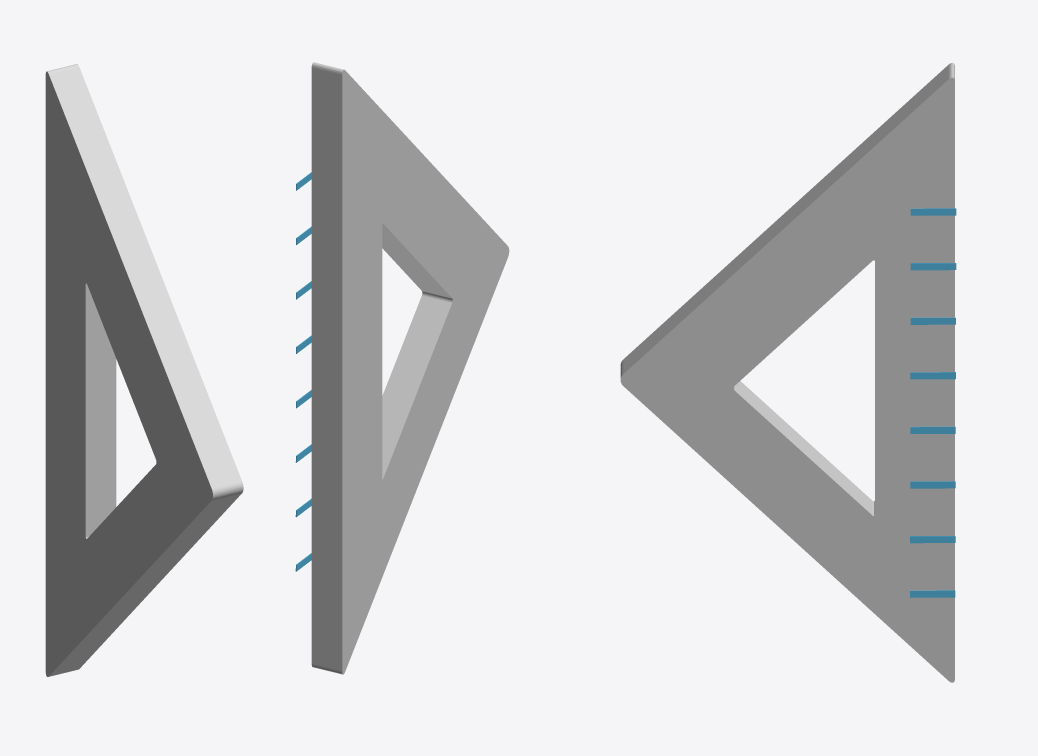
The model's file is stemSteam.glb.
The picture shows the model from 3 angles, left to right: view 1: azimuth 30°, elevation 25°; view 2: azimuth 150°, elevation 25°; view 3: azimuth 270°, elevation 25°; orthographic projection.
Visible parts, largest first — view 1: triangle/glass; view 2: triangle/glass, measuring-lines/color; view 3: triangle/glass, measuring-lines/color.
Part boxes in pixels (box(x1,y1,x2,y2)): triangle/glass: box(45, 64, 243, 676); triangle/glass: box(311, 62, 509, 674); measuring-lines/color: box(295, 172, 311, 571); triangle/glass: box(620, 62, 954, 682); measuring-lines/color: box(910, 208, 956, 597).
Bounding box in the file's own units: 0.1448 × 2.01 × 1.16.
